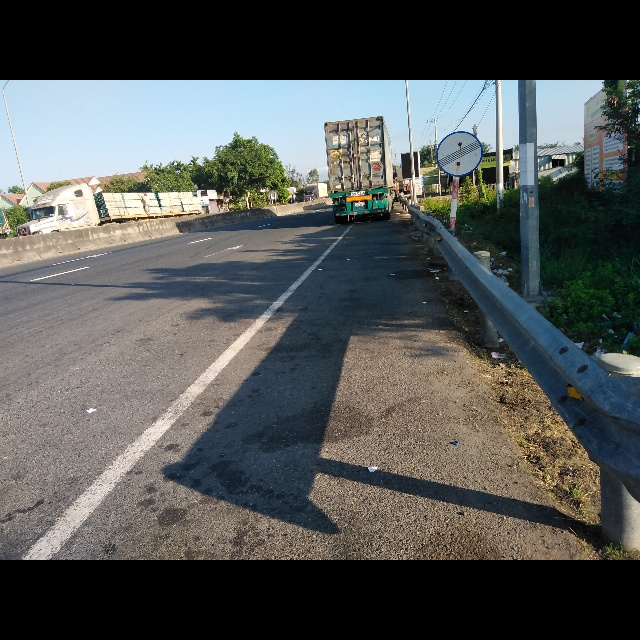Hết tất cả các lệnh cấm: (436, 130, 484, 178)
